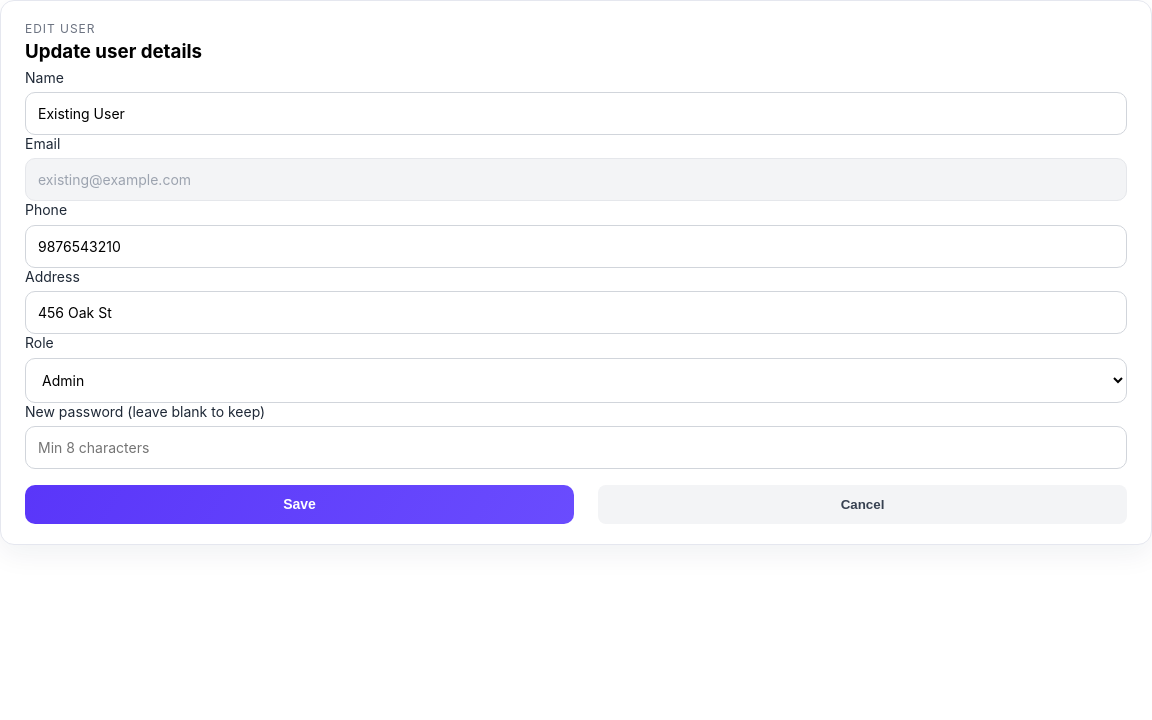
Test: UserForm › Edit Mode › Form Submission › handles update error
The image size is (1152, 720).
Click the button "Save" at (300, 504), box [25, 485, 574, 524]
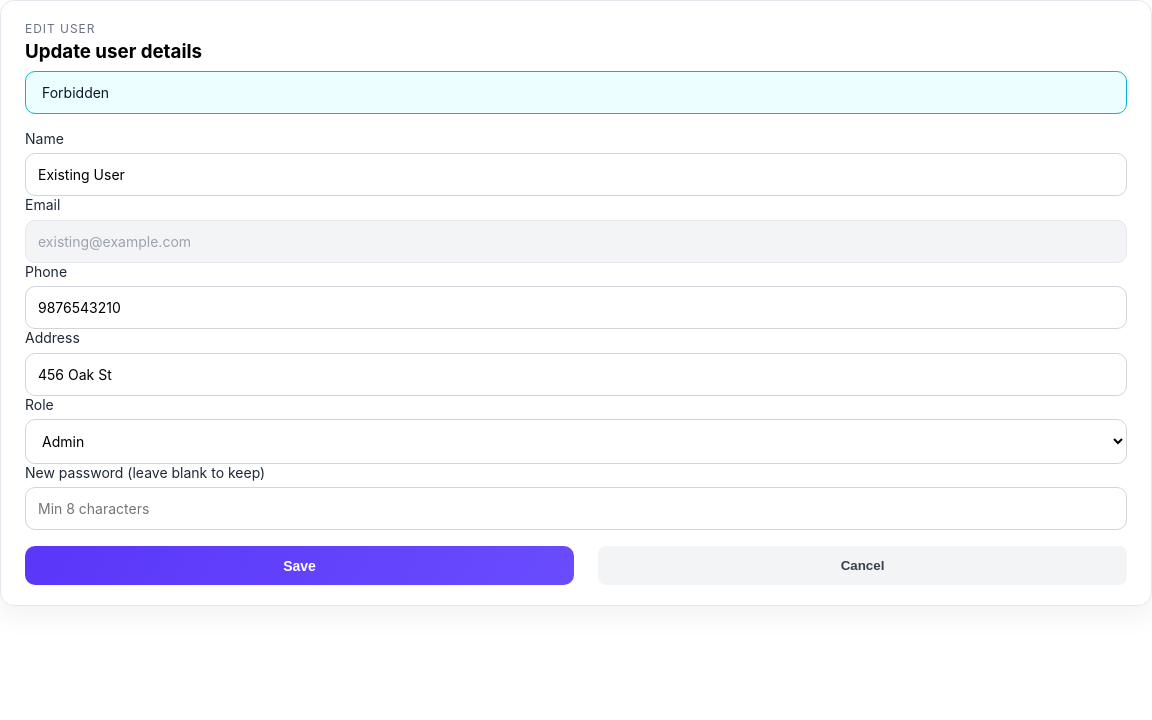
Check: the text "Forbidden" is shown, box [25, 71, 1127, 114]
